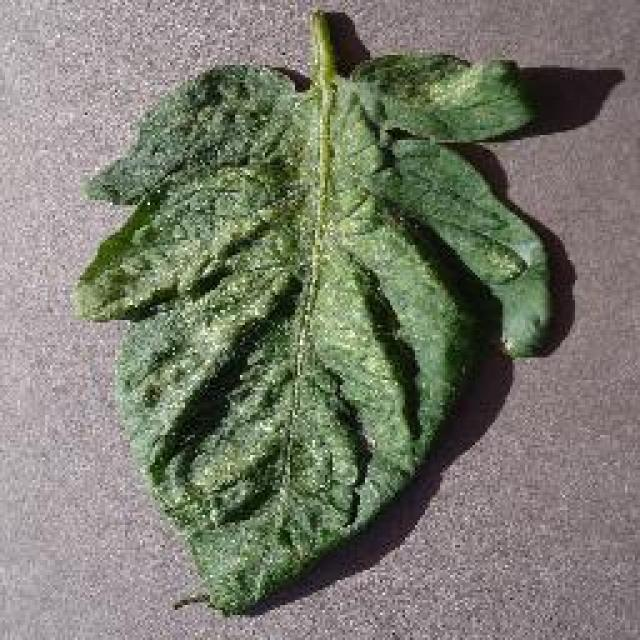Tomato___Spider_mites Two-spotted_spider_mite: (75, 12, 550, 610)
